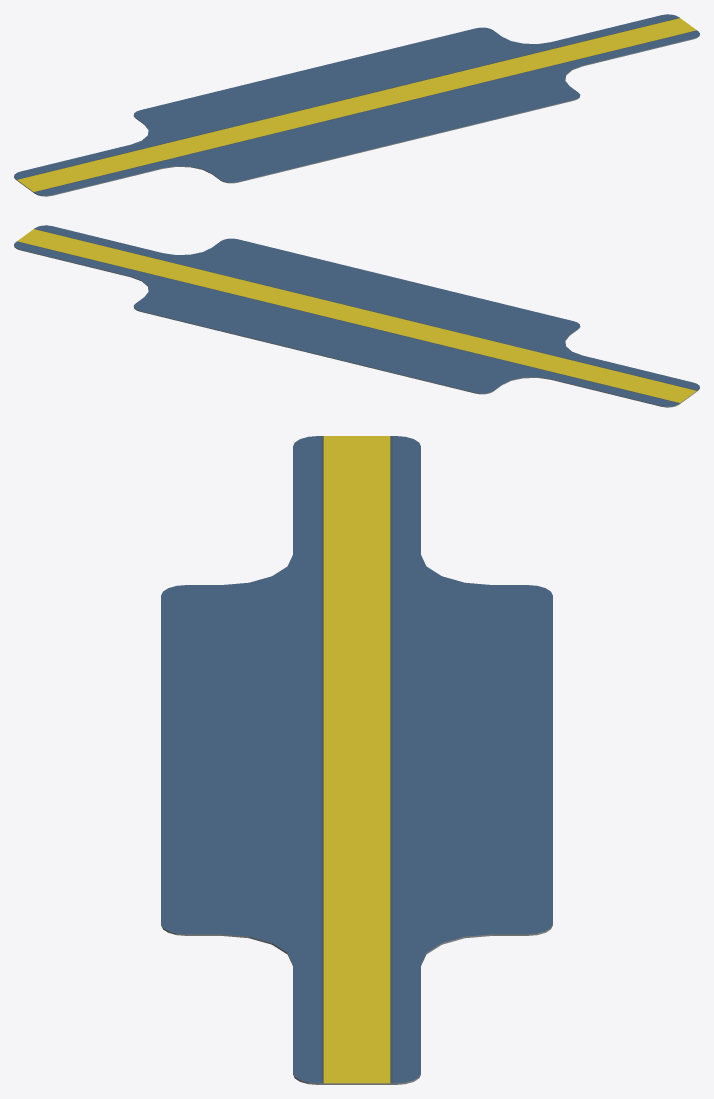
3 renders of one model, top to bottom at view 1: azimuth 30°, elevation 25°; view 2: azimuth 150°, elevation 25°; view 3: azimuth 270°, elevation 25°, orthographic. The views are drawn at different scales.
Visible parts, largest first — view 1: world; view 2: world; view 3: world.
Part boxes in pixels (x1,y1,x2,y2): world: [14, 14, 699, 196]; world: [14, 225, 699, 407]; world: [161, 436, 552, 1084].
Size of the model in its own units: 0.086 by 0.0001 by 0.022.
